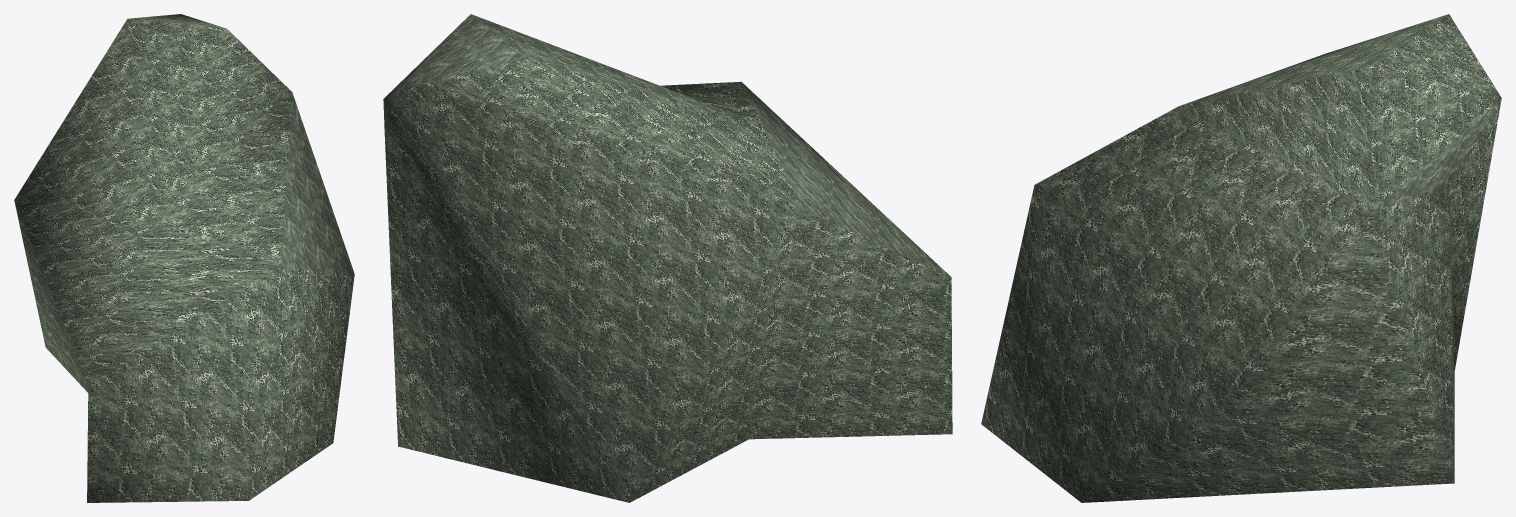
The model's file is 3402IMIG20_01.gltf.
3 views of the same model, side by side, from view 1: azimuth 30°, elevation 25°; view 2: azimuth 150°, elevation 25°; view 3: azimuth 270°, elevation 25° (orthographic). The views are drawn at different scales.
Parts seen in each view (by area): view 1: 3402IMIG20_01; view 2: 3402IMIG20_01; view 3: 3402IMIG20_01.
Boxes of the visible parts, x1,y1,x2,y2 form: 3402IMIG20_01: (14,14,354,502); 3402IMIG20_01: (383,14,952,502); 3402IMIG20_01: (981,14,1501,502).
Size of the model in its own units: 0.6899 by 0.6921 by 0.7319.
Materials: 1 (1 with a texture image).
